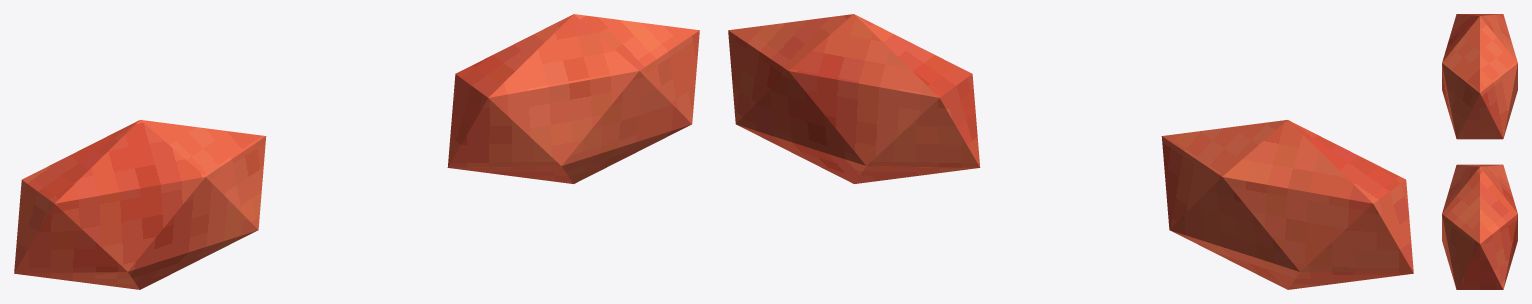
File: ojos.obj
3 renders of one model, left to right at view 1: azimuth 30°, elevation 25°; view 2: azimuth 150°, elevation 25°; view 3: azimuth 270°, elevation 25°, orthographic. The views are drawn at different scales.
Parts seen in each view (by area): view 1: ojos; view 2: ojos; view 3: ojos.
Part boxes in pixels (x1=…): ojos: x1=14, y1=14, x2=699, y2=289; ojos: x1=728, y1=14, x2=1413, y2=289; ojos: x1=1442, y1=14, x2=1517, y2=289.
Size of the model in its own units: 0.2214 by 0.0525 by 0.0298.
Materials: 1 (1 with a texture image).
